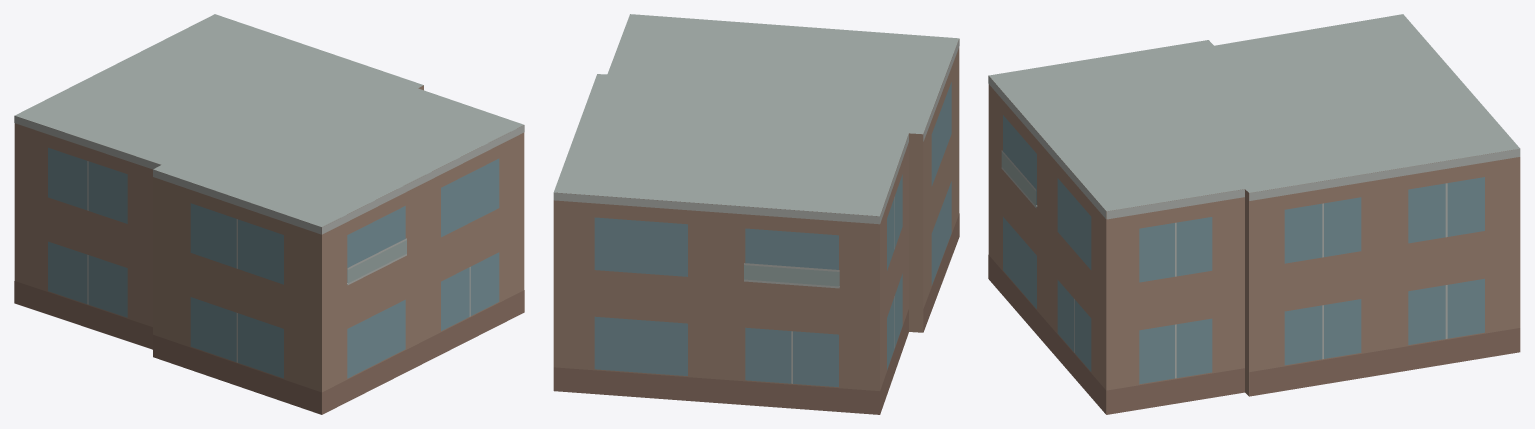
The model's file is survey-upis-32973112.glb.
The picture shows the model from 3 angles, left to right: view 1: azimuth 30°, elevation 25°; view 2: azimuth 150°, elevation 25°; view 3: azimuth 270°, elevation 25°; orthographic projection. The views are drawn at different scales.
Visible parts, largest first — view 1: survey-upis-32973112.tmp; view 2: survey-upis-32973112.tmp; view 3: survey-upis-32973112.tmp.
Boxes of the visible parts, x1,y1,x2,y2 form: survey-upis-32973112.tmp: [14, 14, 524, 414]; survey-upis-32973112.tmp: [553, 14, 959, 414]; survey-upis-32973112.tmp: [988, 14, 1520, 414].
Bounding box in the file's own units: 12.7 × 6.1 × 14.46.
